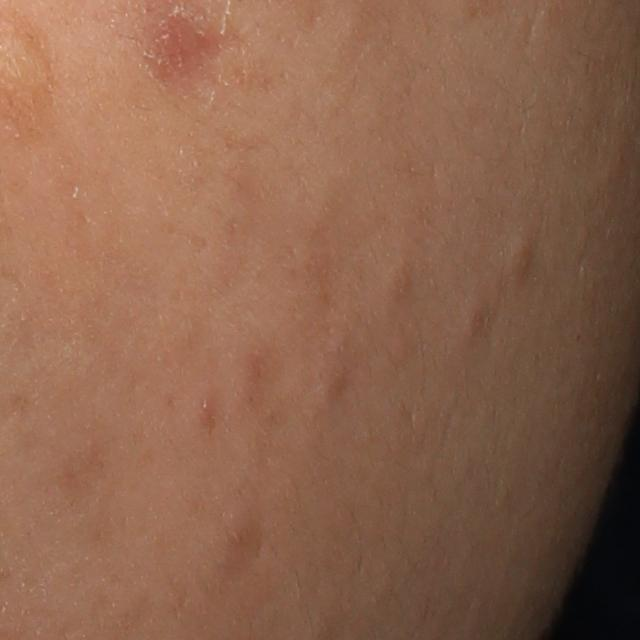comedo: (383, 254, 415, 305), (309, 373, 344, 411), (507, 237, 533, 281), (461, 305, 486, 341)
